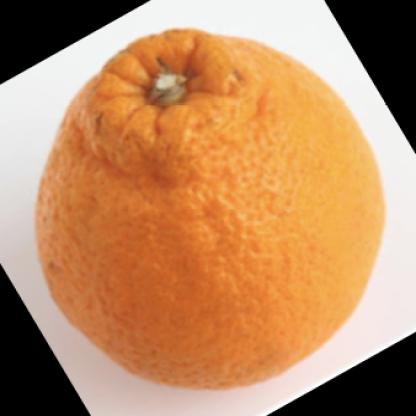fresh: (37, 28, 385, 391)
